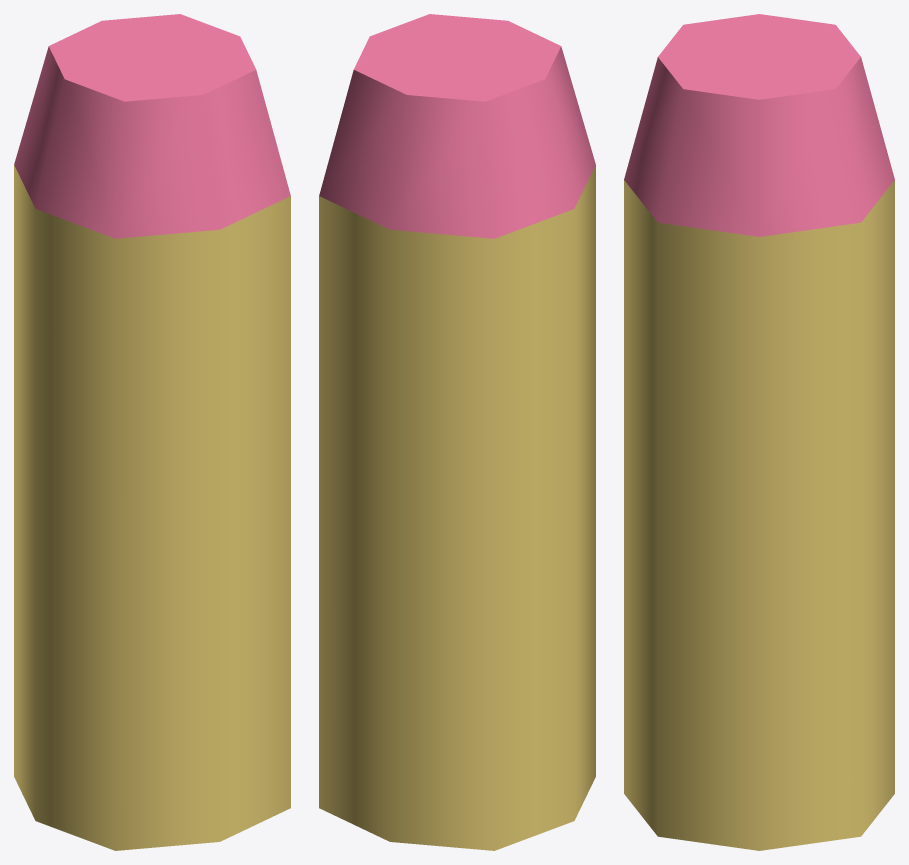
Rendered from bullet_blaster.fbx.
3 renders of one model, left to right at view 1: azimuth 30°, elevation 25°; view 2: azimuth 150°, elevation 25°; view 3: azimuth 270°, elevation 25°, orthographic.
Parts seen in each view (by area): view 1: foamBulletB-low; view 2: foamBulletB-low; view 3: foamBulletB-low.
Boxes of the visible parts, left/top/right/bottom form: foamBulletB-low: left=14, top=14, right=290, bottom=850; foamBulletB-low: left=319, top=14, right=595, bottom=850; foamBulletB-low: left=624, top=14, right=894, bottom=850.
Bounding box in the file's own units: 2 × 6 × 2.
